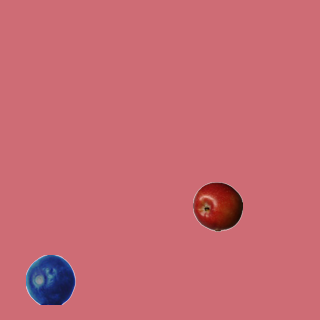Apple Braeburn: (192, 181, 242, 231)
Huckleberry: (25, 254, 75, 304)
